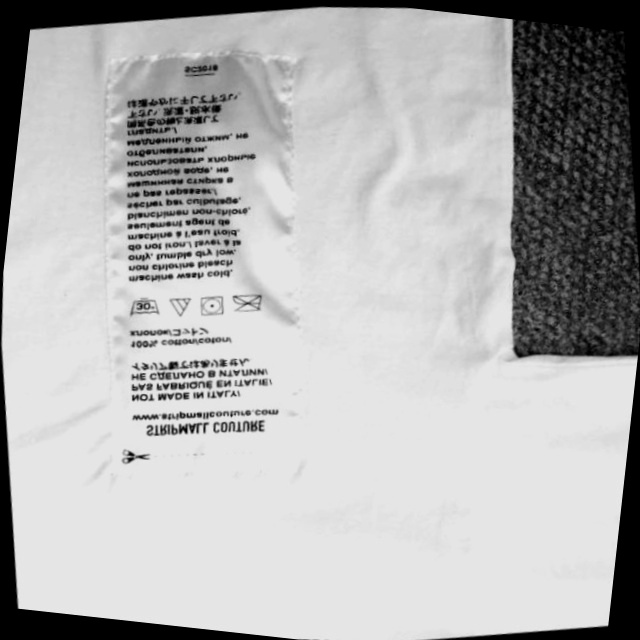30C: (124, 293, 163, 320)
DN_iron: (230, 288, 270, 320)
non_chlorine_bleach: (165, 293, 194, 319)
tumble_dry_low: (192, 291, 228, 318)
